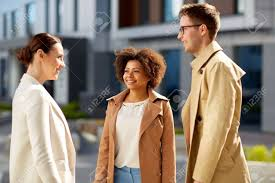no-mask: (22, 30, 69, 88), (175, 2, 215, 56), (117, 46, 153, 96)
